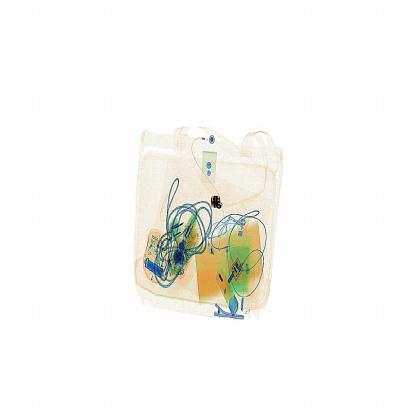scissors: (203, 188, 224, 213)
